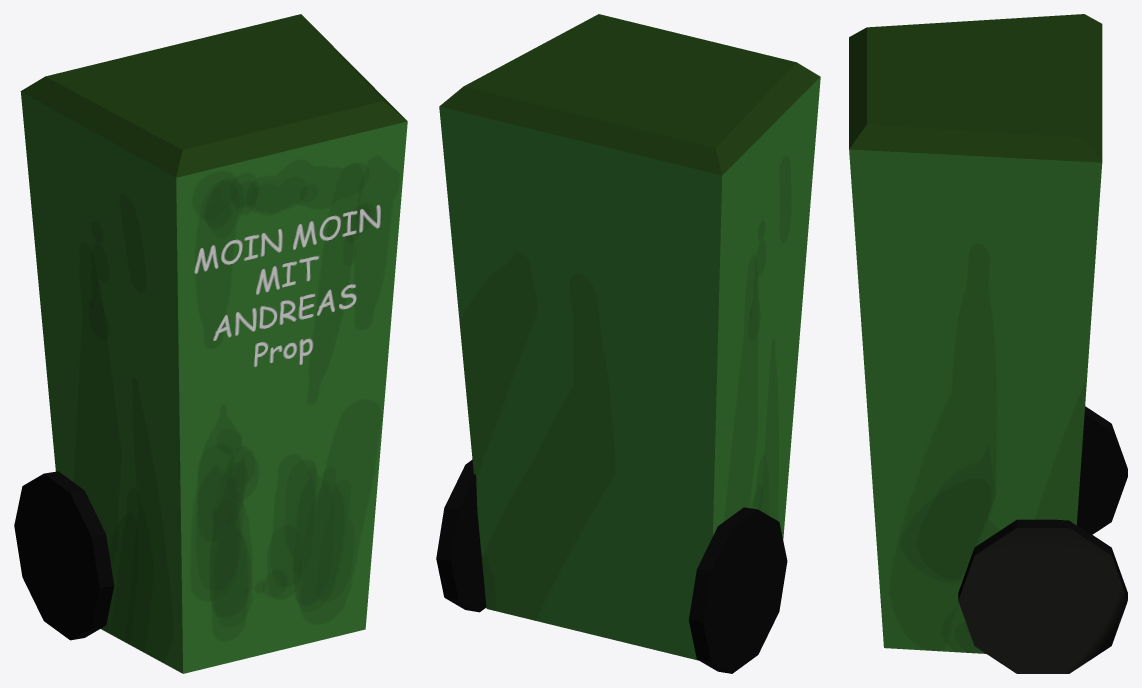
Rendered from obstacle_10.obj.
3 views of the same model, side by side, from view 1: azimuth 30°, elevation 25°; view 2: azimuth 150°, elevation 25°; view 3: azimuth 270°, elevation 25° (orthographic).
Parts seen in each view (by area): view 1: Cube_Cube.008; view 2: Cube_Cube.008; view 3: Cube_Cube.008.
Boxes of the visible parts, x1,y1,x2,y2 form: Cube_Cube.008: [14, 14, 407, 673]; Cube_Cube.008: [436, 14, 820, 673]; Cube_Cube.008: [849, 14, 1127, 673].
Size of the model in its own units: 1.4 by 2.51 by 1.19.
